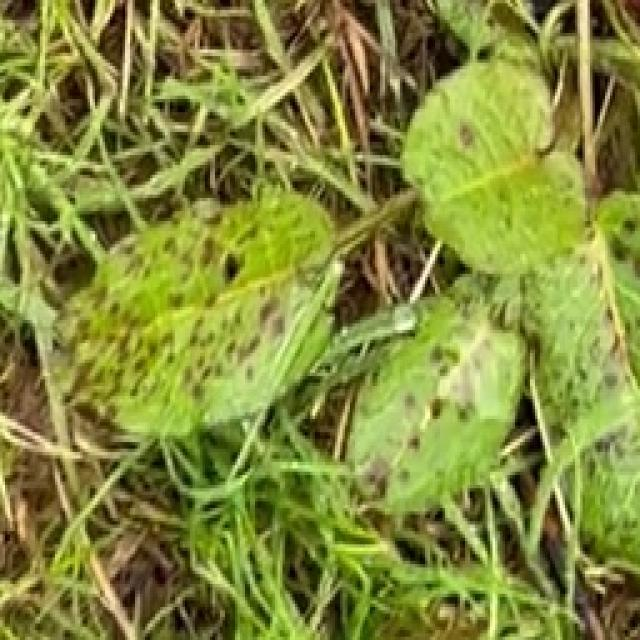organic waste: (81, 23, 640, 614)
